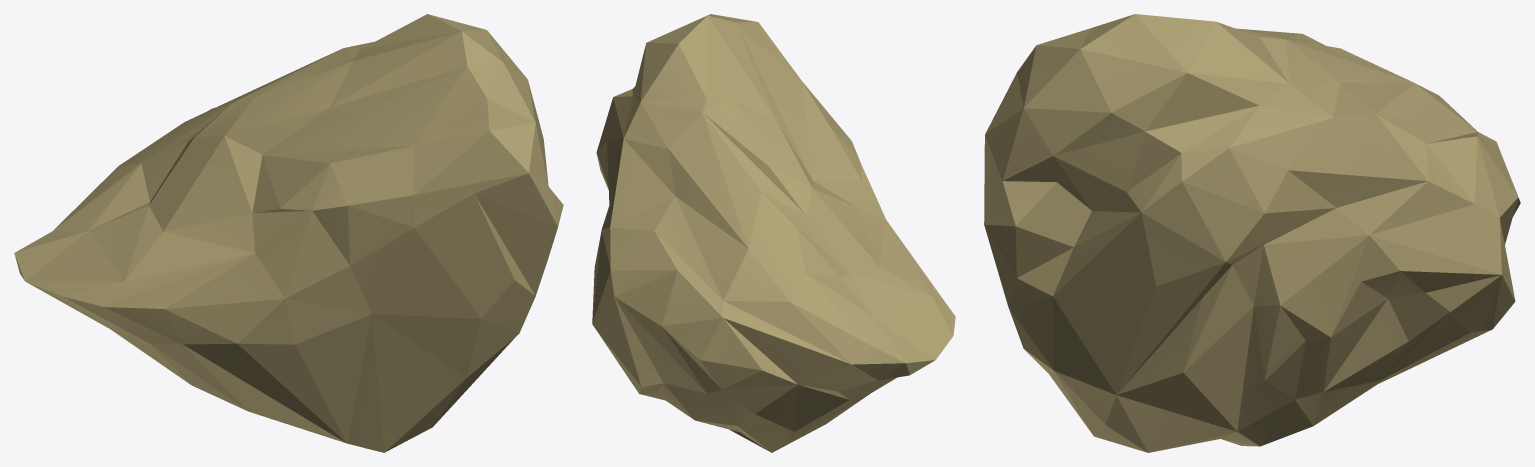
File: SM_rock_18.fbx
3 renders of one model, left to right at view 1: azimuth 30°, elevation 25°; view 2: azimuth 150°, elevation 25°; view 3: azimuth 270°, elevation 25°, orthographic. The views are drawn at different scales.
Parts seen in each view (by area): view 1: rock_18; view 2: rock_18; view 3: rock_18.
Boxes of the visible parts, x1,y1,x2,y2 form: rock_18: (14, 14, 563, 452); rock_18: (592, 14, 955, 452); rock_18: (984, 14, 1520, 452).
Size of the model in its own units: 299 by 261 by 269.
